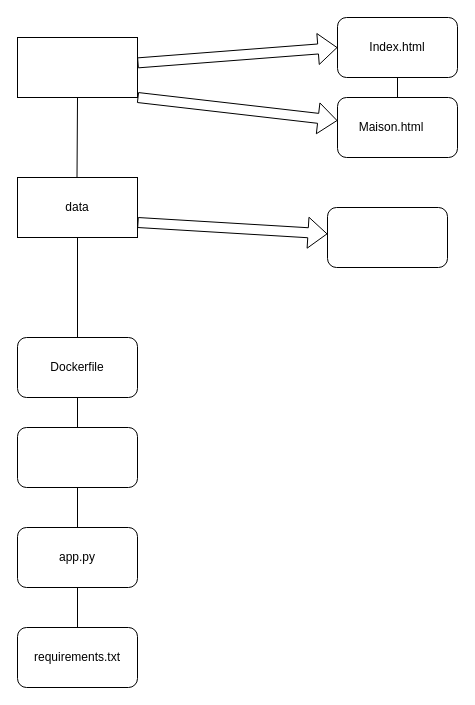
This 475x705 diagram has some shape labels left out. Here are the shapes that lost their labels. From the top down, the box of each, then its label:
(16, 36, 138, 98): Templates
(326, 206, 448, 268): Maison.json
(16, 426, 138, 488): Readme
